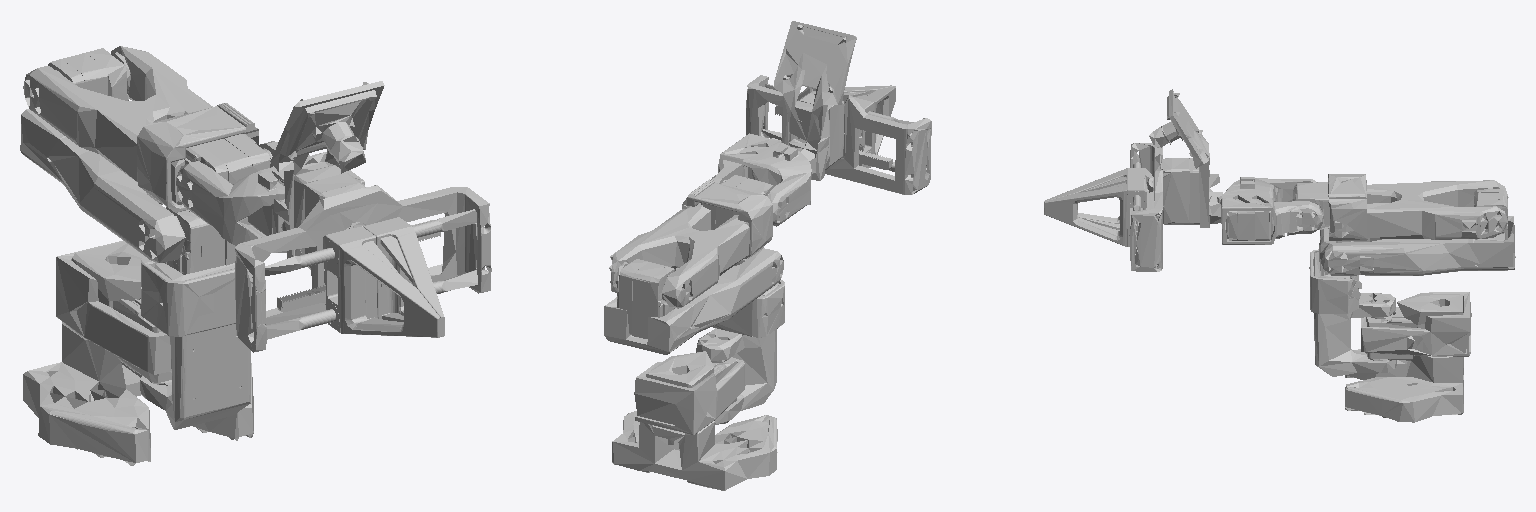
robot.urdf — so101_parallel_gripper:
<?xml version="1.0" ?>
<!--
  SO-ARM101 arm + Robonine parallel gripper, flattened for ManiSkill/SAPIEN.

  Source: roboninecom/SO-ARM100-101-Parallel-Gripper @ 305ad0f6e8f19e4e739616160cbdc7cae1ab153f,
  simulation/so_arm_101_description/urdf/so_101.urdf.xacro. See README.md next to this
  file for licences and the full list of modifications. In short:
    - ROS-only parts removed (xacro args/includes, mujoco tag, world link, safety_controller);
      base_link is the root.
    - Mesh paths made relative; visual meshes decimated ~10x.
    - clamp_1/clamp_2 collision: the upstream convex hulls fill the gap between the jaws,
      so each clamp uses two boxes (fingertip pad + finger body) instead. The gear rack
      (inside the gripper housing) has no collision.
    - Added fixed clamp_1_pad / clamp_2_pad frames at the centre of each jaw's inner face
      (used for the TCP and grasp checks).

  All upstream link frames are pure translations of the CAD frame, so at qpos=0 every
  mesh sits at its raw CAD coordinates; the box/pad coordinates below are those CAD
  (world-at-q=0) coordinates minus the clamp frame's world origin.
-->
<robot name="so101_parallel_gripper">

  <!-- Arguments -->

  <!-- Includes -->

  <!-- ============================================================ -->
  <!-- Links                                                         -->
  <!-- ============================================================ -->

  <link name="base_link">
    <inertial>
      <origin xyz="-7.395983749131527e-05 0.018688778123587116 0.031975817456183726" rpy="0 0 0"/>
      <mass value="0.2092095548721987"/>
      <inertia ixx="0.000199" iyy="0.000196" izz="0.000203" ixy="1e-06" iyz="-1e-05" ixz="0.0"/>
    </inertial>
    <visual>
      <origin xyz="0 0 0" rpy="0 0 0"/>
      <geometry>
        <mesh filename="meshes/visual/base_link.stl" scale="0.001 0.001 0.001"/>
      </geometry>
      <material name="silver"><color rgba="0.8 0.8 0.8 1"/></material>
    </visual>
    <collision>
      <origin xyz="0 0 0" rpy="0 0 0"/>
      <geometry>
        <mesh filename="meshes/collision/base_link.stl" scale="0.001 0.001 0.001"/>
      </geometry>
    </collision>
  </link>

  <link name="link1_1">
    <inertial>
      <origin xyz="-6.74951590711253e-05 -0.030490405697529033 0.053766555610065915" rpy="0 0 0"/>
      <mass value="0.24184654503223657"/>
      <inertia ixx="0.000195" iyy="0.000199" izz="9.5e-05" ixy="1e-06" iyz="1.6e-05" ixz="-2e-06"/>
    </inertial>
    <visual>
      <origin xyz="9.9e-05 0.007243 -0.027983" rpy="0 0 0"/>
      <geometry>
        <mesh filename="meshes/visual/link1_1.stl" scale="0.001 0.001 0.001"/>
      </geometry>
      <material name="silver"><color rgba="0.8 0.8 0.8 1"/></material>
    </visual>
    <collision>
      <origin xyz="9.9e-05 0.007243 -0.027983" rpy="0 0 0"/>
      <geometry>
        <mesh filename="meshes/collision/link1_1.stl" scale="0.001 0.001 0.001"/>
      </geometry>
    </collision>
  </link>

  <link name="link2_1">
    <inertial>
      <origin xyz="-0.018388577871412994 0.06261038358877268 0.0010120440807449838" rpy="0 0 0"/>
      <mass value="0.98611438366224"/>
      <inertia ixx="0.001336" iyy="0.000432" izz="0.001637" ixy="1.3e-05" iyz="-3.7e-05" ixz="-1e-06"/>
    </inertial>
    <visual>
      <origin xyz="-0.020792 0.038556 -0.11936" rpy="0 0 0"/>
      <geometry>
        <mesh filename="meshes/visual/link2_1.stl" scale="0.001 0.001 0.001"/>
      </geometry>
      <material name="silver"><color rgba="0.8 0.8 0.8 1"/></material>
    </visual>
    <collision>
      <origin xyz="-0.020792 0.038556 -0.11936" rpy="0 0 0"/>
      <geometry>
        <mesh filename="meshes/collision/link2_1.stl" scale="0.001 0.001 0.001"/>
      </geometry>
    </collision>
  </link>

  <link name="link3_1">
    <inertial>
      <origin xyz="-0.017751520535904237 -0.06544031690248904 -0.0001729613192295032" rpy="0 0 0"/>
      <mass value="0.9031154796125306"/>
      <inertia ixx="0.001194" iyy="0.000364" izz="0.00144" ixy="1.5e-05" iyz="1.4e-05" ixz="-2e-06"/>
    </inertial>
    <visual>
      <origin xyz="-0.022302 -0.073879 -0.148777" rpy="0 0 0"/>
      <geometry>
        <mesh filename="meshes/visual/link3_1.stl" scale="0.001 0.001 0.001"/>
      </geometry>
      <material name="silver"><color rgba="0.8 0.8 0.8 1"/></material>
    </visual>
    <collision>
      <origin xyz="-0.022302 -0.073879 -0.148777" rpy="0 0 0"/>
      <geometry>
        <mesh filename="meshes/collision/link3_1.stl" scale="0.001 0.001 0.001"/>
      </geometry>
    </collision>
  </link>

  <link name="link4_1">
    <inertial>
      <origin xyz="-0.014388616159181473 -0.028802697165152366 -0.00020561897946119734" rpy="0 0 0"/>
      <mass value="0.31773533805976817"/>
      <inertia ixx="0.000138" iyy="0.000153" izz="0.000239" ixy="2.5e-05" iyz="0.0" ixz="-1e-06"/>
    </inertial>
    <visual>
      <origin xyz="-0.024382 0.060582 -0.152897" rpy="0 0 0"/>
      <geometry>
        <mesh filename="meshes/visual/link4_1.stl" scale="0.001 0.001 0.001"/>
      </geometry>
      <material name="silver"><color rgba="0.8 0.8 0.8 1"/></material>
    </visual>
    <collision>
      <origin xyz="-0.024382 0.060582 -0.152897" rpy="0 0 0"/>
      <geometry>
        <mesh filename="meshes/collision/link4_1.stl" scale="0.001 0.001 0.001"/>
      </geometry>
    </collision>
  </link>

  <link name="link5_1">
    <inertial>
      <origin xyz="-0.0005839285183169068 -0.04153912948671028 0.01505583353882603" rpy="0 0 0"/>
      <mass value="0.5561721109318601"/>
      <inertia ixx="0.000579" iyy="0.000983" izz="0.000737" ixy="1e-06" iyz="-8.4e-05" ixz="-5e-06"/>
    </inertial>
    <visual>
      <origin xyz="-0.007062 0.120627 -0.152066" rpy="0 0 0"/>
      <geometry>
        <mesh filename="meshes/visual/link5_1.stl" scale="0.001 0.001 0.001"/>
      </geometry>
      <material name="silver"><color rgba="0.8 0.8 0.8 1"/></material>
    </visual>
    <collision>
      <origin xyz="-0.007062 0.120627 -0.152066" rpy="0 0 0"/>
      <geometry>
        <mesh filename="meshes/collision/link5_1.stl" scale="0.001 0.001 0.001"/>
      </geometry>
    </collision>
  </link>

  <link name="clamp_1">
    <inertial>
      <origin xyz="0.0601695113719365 0.14480677890200364 0.1844826866723634" rpy="0 0 0"/>
      <mass value="0.15381179772652928"/>
      <inertia ixx="8.6e-05" iyy="4.1e-05" izz="7.3e-05" ixy="-1e-06" iyz="4e-06" ixz="-2e-06"/>
    </inertial>
    <visual>
      <origin xyz="0.045072 0.340704 0.033971" rpy="0 0 0"/>
      <geometry>
        <mesh filename="meshes/visual/clamp_1.stl" scale="0.001 0.001 0.001"/>
      </geometry>
      <material name="silver"><color rgba="0.8 0.8 0.8 1"/></material>
    </visual>
    <!-- pad: world AABB x[0.0075, 0.0135] y[-0.2524, -0.2275] z[0.1425, 0.1615] at q=0 -->
    <collision name="clamp_1_pad">
      <origin xyz="0.055572 0.100754 0.185971" rpy="0 0 0"/>
      <geometry>
        <box size="0.006 0.0249 0.019"/>
      </geometry>
    </collision>
    <!-- finger: world AABB x[0.0092, 0.023] y[-0.2275, -0.178] z[0.13, 0.1745] at q=0 -->
    <collision name="clamp_1_finger">
      <origin xyz="0.061172 0.137954 0.186221" rpy="0 0 0"/>
      <geometry>
        <box size="0.0138 0.0495 0.0445"/>
      </geometry>
    </collision>
  </link>

  <link name="clamp_2">
    <inertial>
      <origin xyz="-0.0800042161303889 0.1470101120878245 0.18506826370370444" rpy="0 0 0"/>
      <mass value="0.15381179772652928"/>
      <inertia ixx="8.6e-05" iyy="4.1e-05" izz="7.3e-05" ixy="1e-06" iyz="-4e-06" ixz="-2e-06"/>
    </inertial>
    <visual>
      <origin xyz="-0.07989 0.342905 0.031809" rpy="0 0 0"/>
      <geometry>
        <mesh filename="meshes/visual/clamp_2.stl" scale="0.001 0.001 0.001"/>
      </geometry>
      <material name="silver"><color rgba="0.8 0.8 0.8 1"/></material>
    </visual>
    <!-- pad: world AABB x[0.0015, 0.0075] y[-0.2524, -0.2275] z[0.1425, 0.1615] at q=0 -->
    <collision name="clamp_2_pad">
      <origin xyz="-0.07539 0.102955 0.183809" rpy="0 0 0"/>
      <geometry>
        <box size="0.006 0.0249 0.019"/>
      </geometry>
    </collision>
    <!-- finger: world AABB x[-0.0085, 0.0055] y[-0.2275, -0.178] z[0.129, 0.1745] at q=0 -->
    <collision name="clamp_2_finger">
      <origin xyz="-0.08139 0.140155 0.183559" rpy="0 0 0"/>
      <geometry>
        <box size="0.014 0.0495 0.0455"/>
      </geometry>
    </collision>
  </link>

  <!-- ============================================================ -->
  <!-- Joints                                                        -->
  <!-- ============================================================ -->

  <!-- Joint 1: Base rotation (Yaw) -->
  <joint name="base_link_to_link1" type="revolute">
    <origin xyz="-9.9e-05 -0.007243 0.027983" rpy="0 0 0"/>
    <parent link="base_link"/>
    <child link="link1_1"/>
    <axis xyz="-0.0 -0.008727 0.999962"/>
    <limit lower="-2.094395" upper="2.094395" effort="1.5" velocity="5.236"/>
    <dynamics damping="0.1" friction="0.05"/>
  </joint>

  <!-- Joint 2: Shoulder pitch — STS3215 servo -->
  <joint name="link1_to_link2" type="revolute">
    <origin xyz="0.020891 -0.031313 0.091377" rpy="0 0 0"/>
    <parent link="link1_1"/>
    <child link="link2_1"/>
    <axis xyz="-0.999962 -0.008726 -7.6e-05"/>
    <limit lower="-3.228859" upper="0.174533" effort="1.5" velocity="5.236"/>
    <dynamics damping="0.1" friction="0.05"/>
  </joint>

  <!-- Joint 3: Elbow — STS3215 servo -->
  <joint name="link2_to_link3" type="revolute">
    <origin xyz="0.00151 0.112435 0.029417" rpy="0 0 0"/>
    <parent link="link2_1"/>
    <child link="link3_1"/>
    <axis xyz="-0.999924 -0.00865 -0.008802"/>
    <limit lower="0.0" upper="3.316126" effort="1.5" velocity="5.236"/>
    <dynamics damping="0.1" friction="0.05"/>
  </joint>

  <!-- Joint 4: Wrist pitch — STS3215 servo -->
  <joint name="link3_to_link4" type="revolute">
    <origin xyz="0.00208 -0.134461 0.00412" rpy="0 0 0"/>
    <parent link="link3_1"/>
    <child link="link4_1"/>
    <axis xyz="-0.999848 0.000153 -0.017451"/>
    <limit lower="-1.658063" upper="1.658063" effort="1.5" velocity="5.236"/>
    <dynamics damping="0.1" friction="0.05"/>
  </joint>

  <!-- Joint 5: Wrist roll — STS3215 servo -->
  <joint name="link4_to_link5" type="revolute">
    <origin xyz="-0.01732 -0.060045 -0.000831" rpy="0 0 0"/>
    <parent link="link4_1"/>
    <child link="link5_1"/>
    <axis xyz="-1e-06 0.999961 0.008803"/>
    <limit lower="-4.276057" upper="1.570796" effort="1.5" velocity="5.236"/>
    <dynamics damping="0.1" friction="0.05"/>
  </joint>

  <!-- Gripper: right clamp (primary) — STS3215 servo -->
  <joint name="right_clamp" type="prismatic">
    <origin xyz="-0.052134 -0.220077 -0.186037" rpy="0 0 0"/>
    <parent link="link5_1"/>
    <child link="clamp_1"/>
    <axis xyz="0.999848 -0.000154 0.017451"/>
    <limit lower="0.0" upper="0.037" effort="1.5" velocity="0.05"/>
    <dynamics damping="0.5" friction="0.1"/>
  </joint>

  <!-- Gripper: left clamp (mimic of right_clamp, inverted) -->
  <joint name="left_clamp" type="prismatic">
    <origin xyz="0.072828 -0.222278 -0.183875" rpy="0 0 0"/>
    <parent link="link5_1"/>
    <child link="clamp_2"/>
    <axis xyz="0.999848 -0.000154 0.017451"/>
    <limit lower="-0.038" upper="0.0" effort="1.5" velocity="0.05"/>
    <dynamics damping="0.5" friction="0.1"/>
    <mimic joint="right_clamp" multiplier="-1" offset="0"/>
  </joint>

  <link name="clamp_1_pad"/>
  <joint name="clamp_1_to_pad" type="fixed">
    <origin xyz="0.052572 0.100704 0.185971" rpy="0 0 0"/>
    <parent link="clamp_1"/>
    <child link="clamp_1_pad"/>
  </joint>

  <link name="clamp_2_pad"/>
  <joint name="clamp_2_to_pad" type="fixed">
    <origin xyz="-0.07239 0.102905 0.183809" rpy="0 0 0"/>
    <parent link="clamp_2"/>
    <child link="clamp_2_pad"/>
  </joint>

</robot>

--- What the picture shows (computed from the rendered views, not written in the file) ---
3 views of the same robot in one strip: view 1: azimuth 30°, elevation 25°; view 2: azimuth 150°, elevation 25°; view 3: azimuth 270°, elevation 25° (orthographic).
Robot: so101_parallel_gripper — 10 links, 9 joints (5 revolute, 2 prismatic, 2 fixed); root link base_link; default pose: every joint at zero.
Visible links, largest first — view 1: link5_1, base_link, link3_1, link1_1, link2_1, clamp_2, link4_1, clamp_1; view 2: link5_1, base_link, link3_1, link2_1, link1_1, link4_1, clamp_2, clamp_1; view 3: base_link, link3_1, link5_1, link2_1, link1_1, link4_1, clamp_1, clamp_2.
Boxes of the visible links, <box> form: link5_1: <box>235,81,491,352</box>; base_link: <box>23,241,253,465</box>; link3_1: <box>23,46,270,212</box>; link1_1: <box>140,207,250,429</box>; link2_1: <box>20,48,185,262</box>; clamp_2: <box>323,220,440,337</box>; link4_1: <box>176,141,364,252</box>; clamp_1: <box>277,217,444,336</box>; link5_1: <box>746,21,931,194</box>; base_link: <box>612,351,777,490</box>; link3_1: <box>609,175,774,308</box>; link2_1: <box>604,248,783,354</box>; link1_1: <box>696,246,784,424</box>; link4_1: <box>711,133,811,226</box>; clamp_2: <box>775,86,895,167</box>; clamp_1: <box>844,85,892,169</box>; base_link: <box>1345,292,1471,422</box>; link3_1: <box>1293,174,1508,240</box>; link5_1: <box>1130,89,1222,271</box>; link2_1: <box>1320,189,1515,275</box>; link1_1: <box>1309,229,1396,376</box>; link4_1: <box>1217,177,1323,244</box>; clamp_1: <box>1044,179,1146,246</box>; clamp_2: <box>1044,168,1153,229</box>.
Bounding box of the posed robot: 0.1292 × 0.344 × 0.2369 m (x, y, z).
8 mesh visuals loaded from 8 distinct referenced files (8 binary STL).
